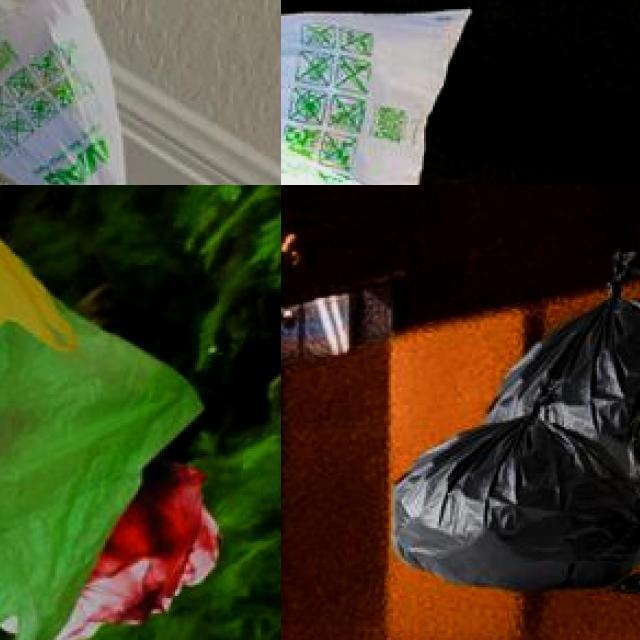waste: (434, 271, 640, 615), (0, 301, 198, 640), (0, 0, 194, 185), (281, 0, 467, 185), (0, 185, 87, 421)
